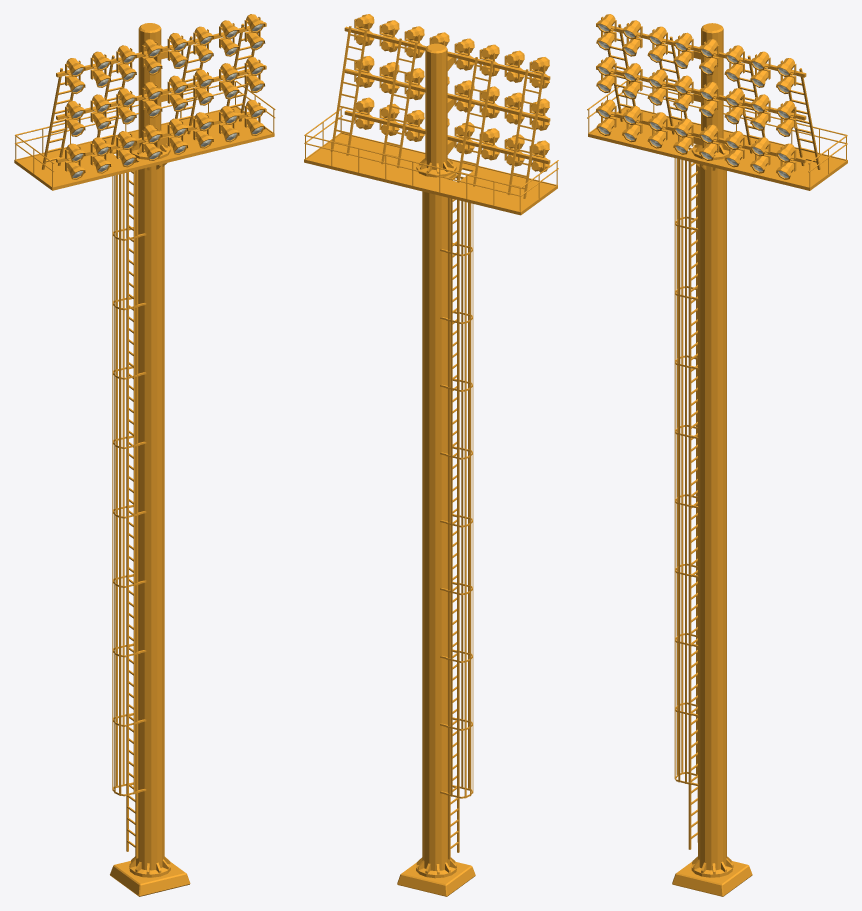
The model's file is SM_Reflector_Racetrack_25m.fbx.
3 views of the same model, side by side, from view 1: azimuth 30°, elevation 25°; view 2: azimuth 150°, elevation 25°; view 3: azimuth 330°, elevation 25° (orthographic). The views are drawn at different scales.
Visible parts, largest first — view 1: SM_Reflector_Racetrack_25m; view 2: SM_Reflector_Racetrack_25m; view 3: SM_Reflector_Racetrack_25m.
Boxes of the visible parts, x1=… form: SM_Reflector_Racetrack_25m: x1=14, y1=14, x2=275, y2=896; SM_Reflector_Racetrack_25m: x1=304, y1=14, x2=558, y2=896; SM_Reflector_Racetrack_25m: x1=587, y1=14, x2=847, y2=896.
Bounding box in the file's own units: 6.81 × 25 × 2.43.
